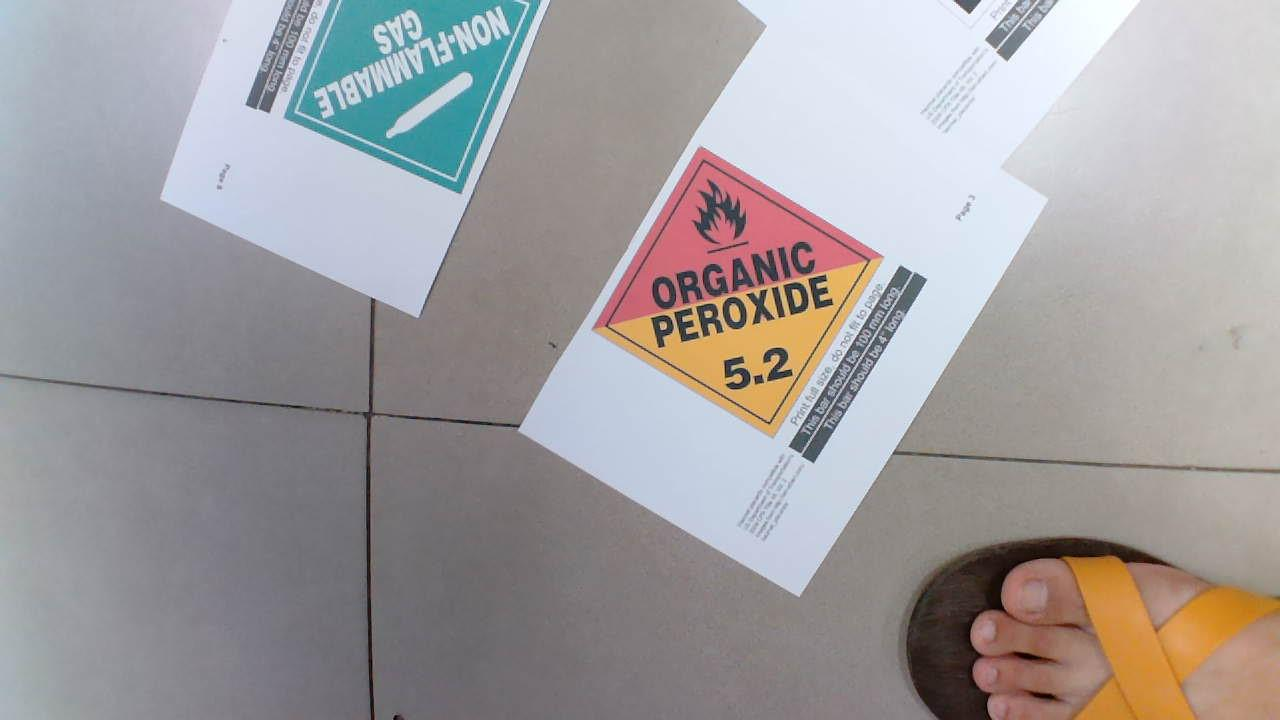non-flammable-gas: (284, 1, 548, 191)
organic-peroxide: (597, 138, 895, 431)
